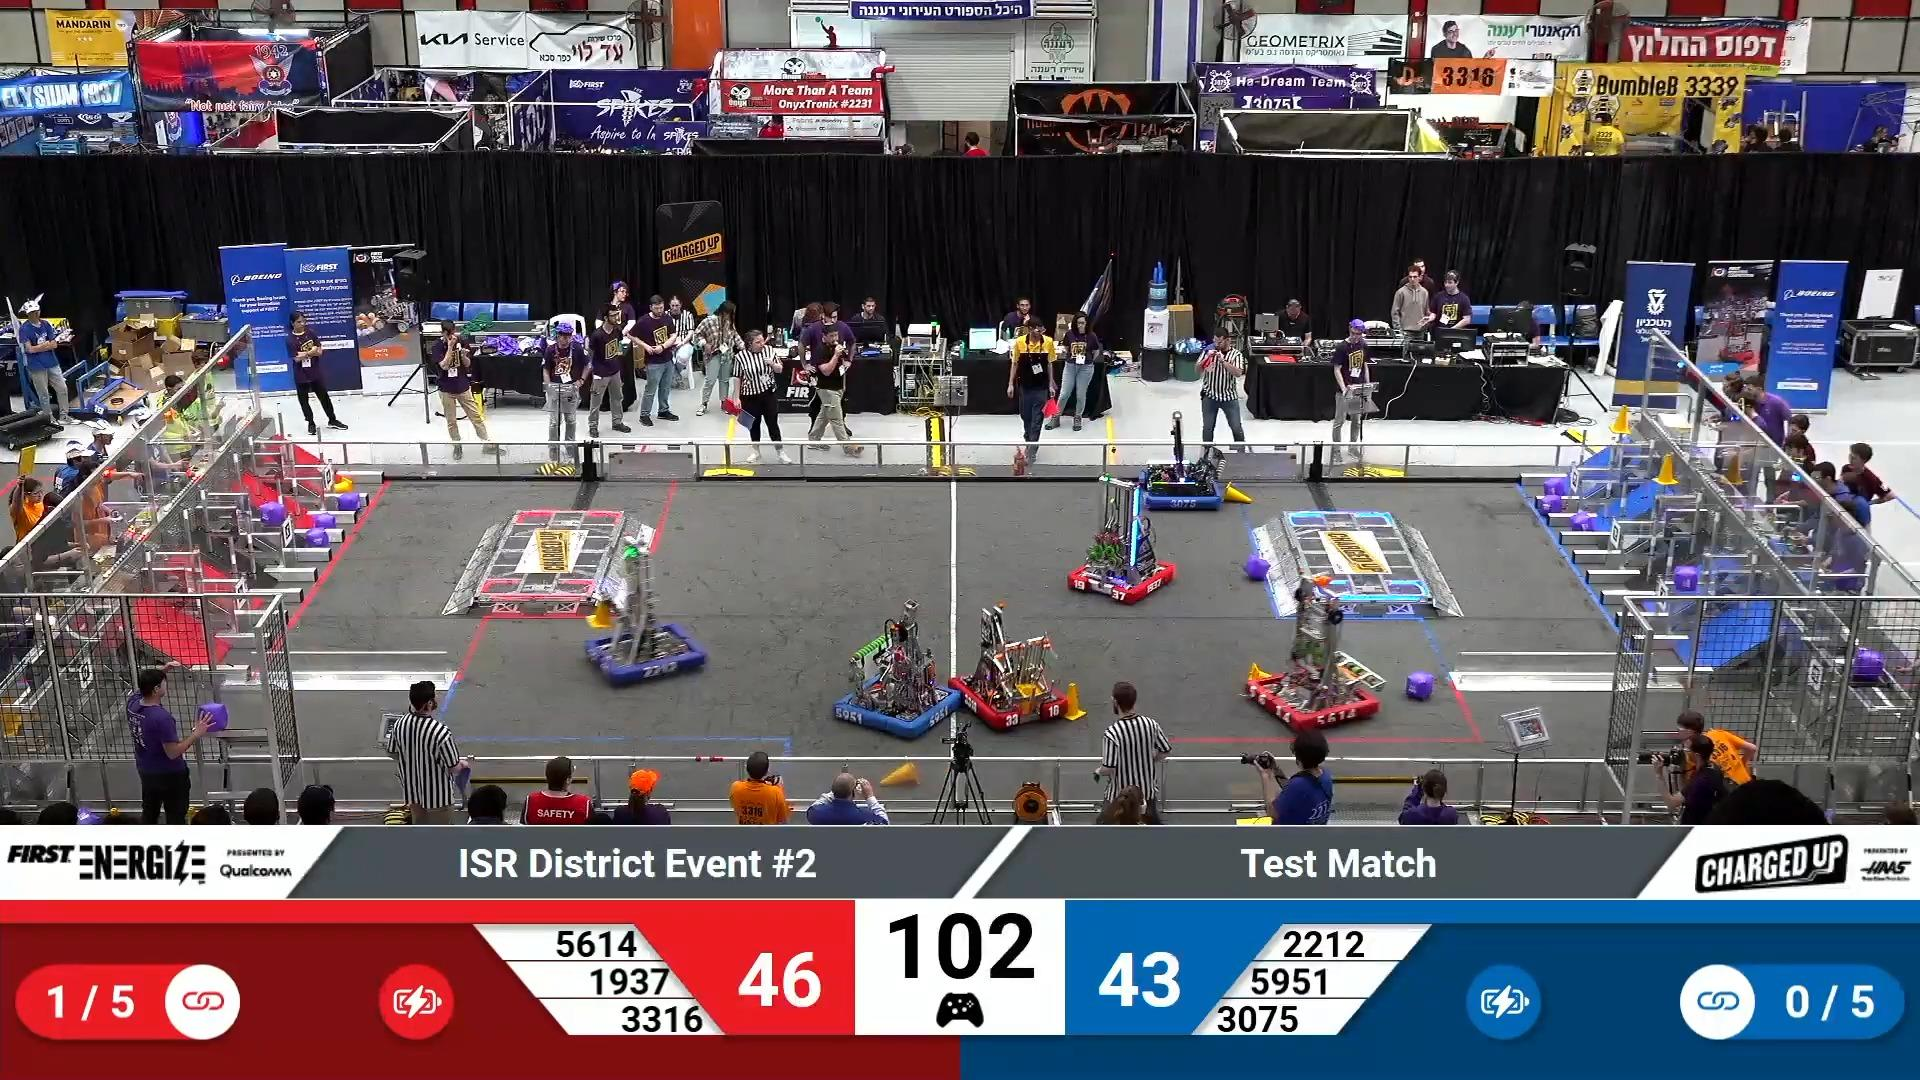robot: (1244, 572, 1379, 725), (583, 530, 708, 686), (833, 603, 963, 741), (961, 599, 1069, 731), (1068, 472, 1176, 604), (1133, 409, 1229, 512)
